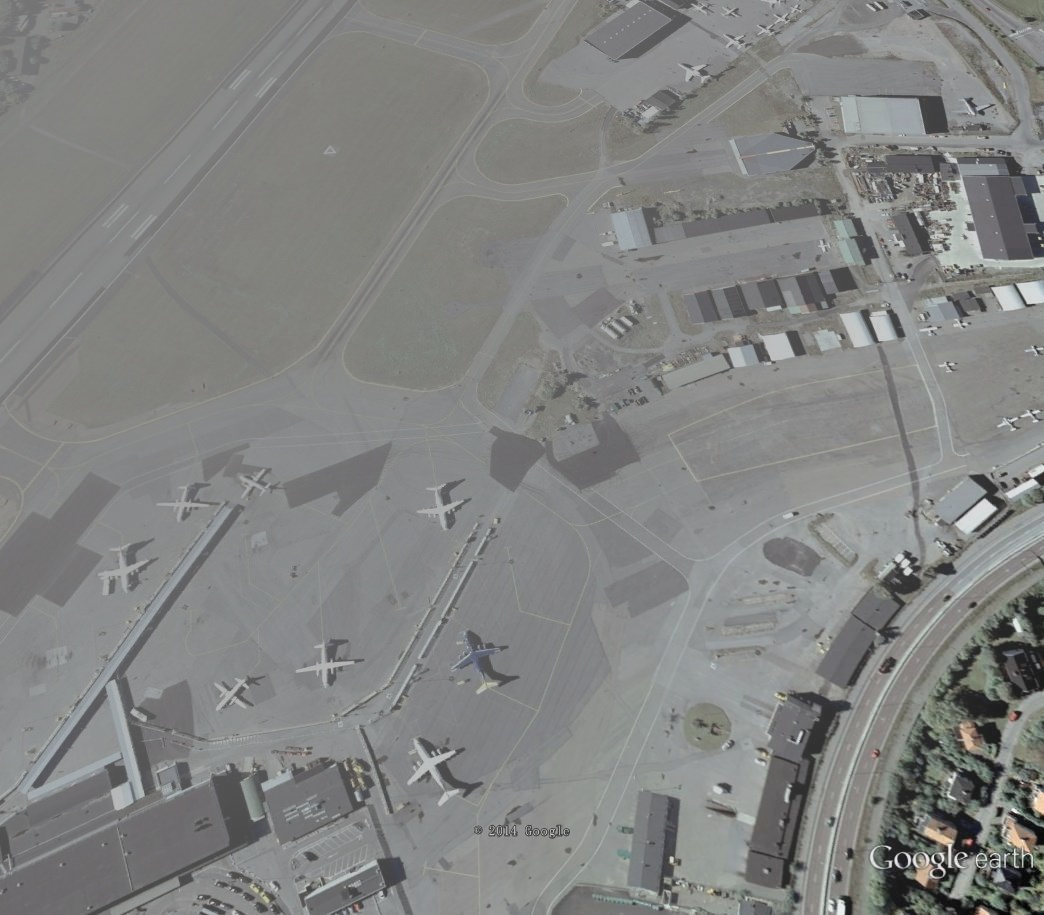aircraft: (400, 736, 471, 810), (447, 628, 507, 702), (292, 639, 360, 691), (412, 481, 474, 537), (96, 543, 154, 597), (154, 480, 213, 529), (208, 675, 256, 715), (234, 468, 279, 499), (949, 93, 1000, 120), (676, 60, 714, 88), (718, 31, 753, 54), (996, 414, 1024, 436), (916, 322, 945, 343), (1015, 405, 1042, 427), (754, 19, 781, 40), (687, 4, 717, 22), (717, 3, 742, 24), (949, 316, 976, 334), (769, 10, 793, 30), (937, 358, 958, 378), (816, 237, 837, 255), (1020, 343, 1042, 358), (786, 3, 808, 18)
